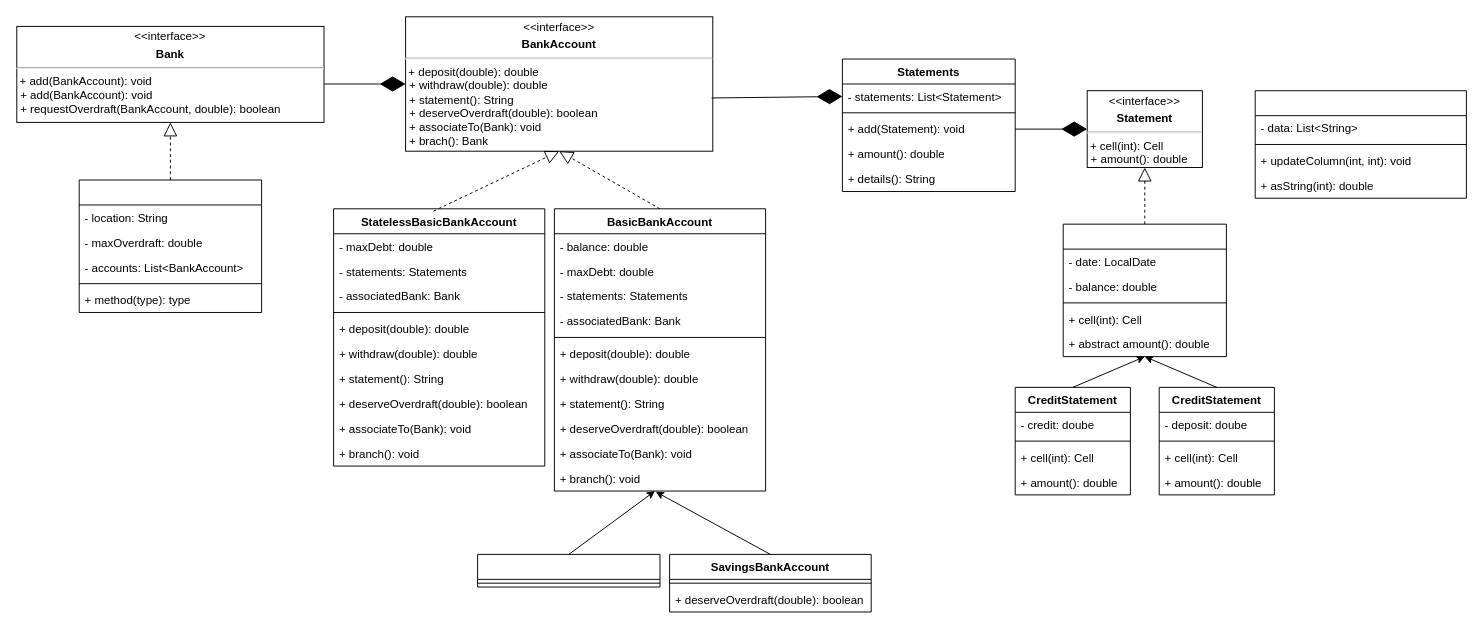
Image size: 1483x632. Some labels were removed from this diagram. Each missing label, with the box of its shape:
BasicBank: (78, 179, 262, 312)
BasicStatement: (1062, 223, 1226, 357)
Cell: (1254, 90, 1466, 198)
CurrentBankAccount: (477, 553, 660, 587)
